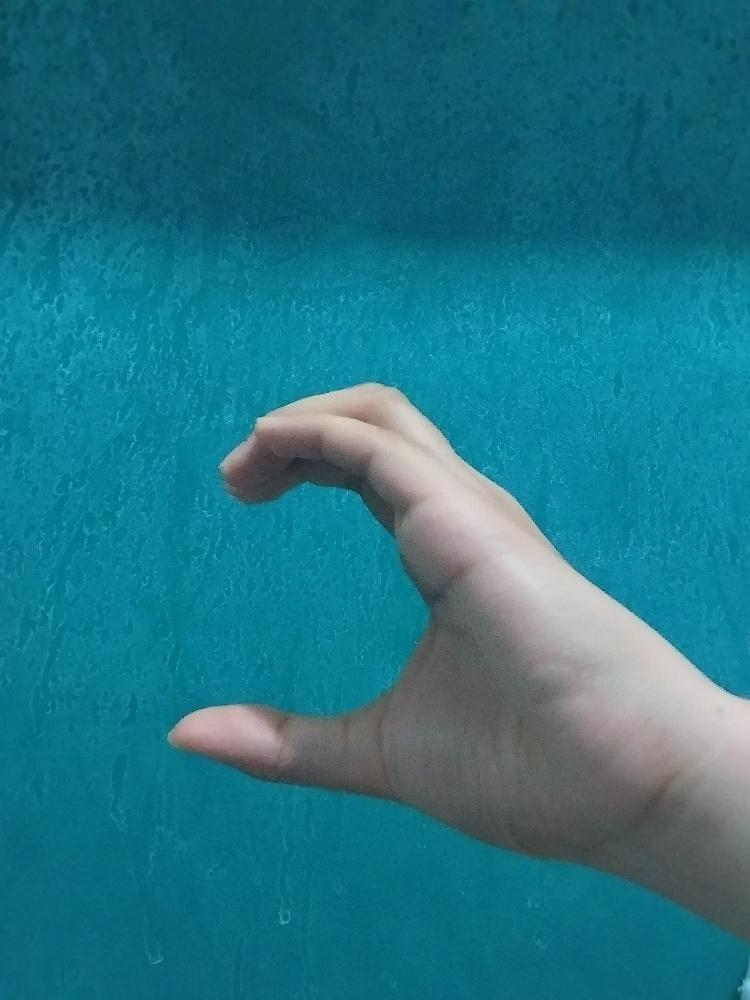c: (166, 376, 638, 863)
